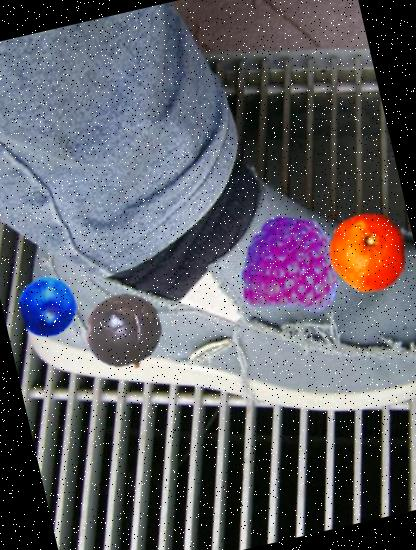Clementine: (319, 201, 416, 302)
Huckleberry: (12, 270, 85, 343)
Passion: (76, 284, 172, 380)
Raspberry: (230, 203, 352, 324)
